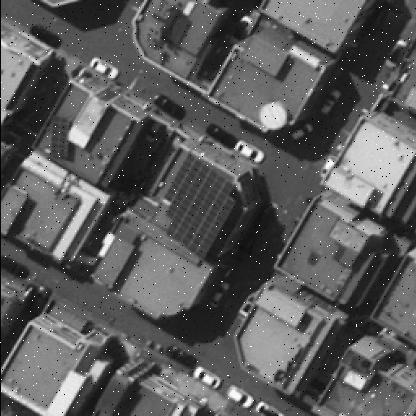solar-pv-panel: (162, 153, 236, 260), (49, 116, 68, 161)
